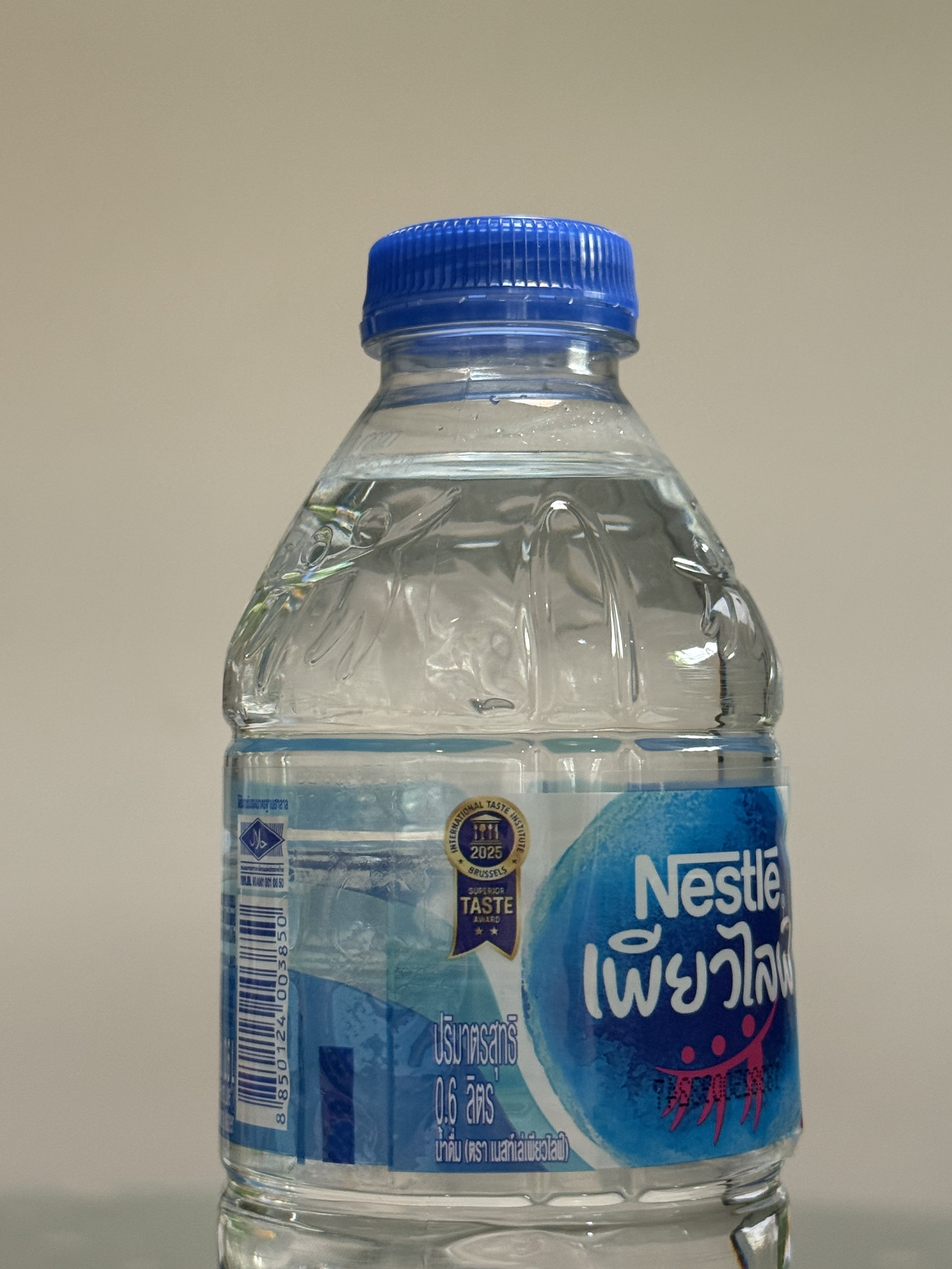closed_cap: (356, 211, 642, 357)
